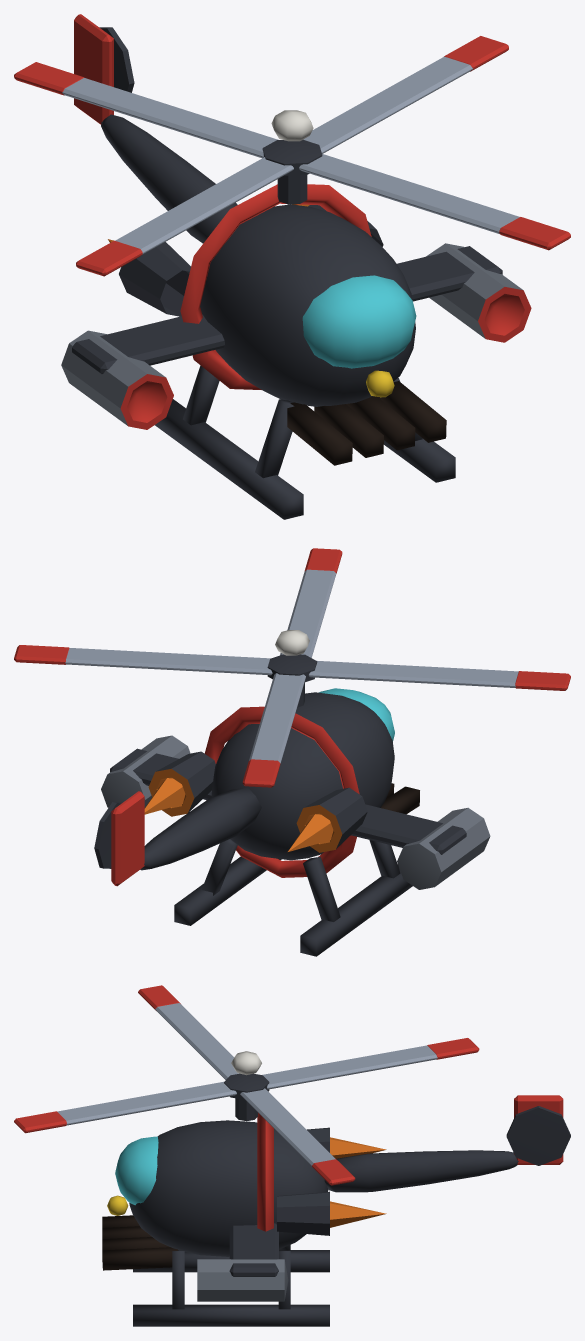
3 views of the same model, one above another, from view 1: azimuth 30°, elevation 25°; view 2: azimuth 150°, elevation 25°; view 3: azimuth 270°, elevation 25° (orthographic). The views are drawn at different scales.
Visible parts, largest first — view 1: heli_0_base, heli_1_torreta; view 2: heli_0_base, heli_1_torreta; view 3: heli_0_base, heli_1_torreta.
Part boxes in pixels (box(x1,y1,x2,y2)): heli_0_base: box(61, 14, 531, 519); heli_1_torreta: box(14, 36, 570, 276); heli_0_base: box(94, 688, 490, 956); heli_1_torreta: box(14, 548, 570, 787); heli_0_base: box(102, 1095, 570, 1326); heli_1_torreta: box(14, 985, 479, 1185).
Bounding box in the file's own units: 1.23 × 0.7061 × 1.47.
